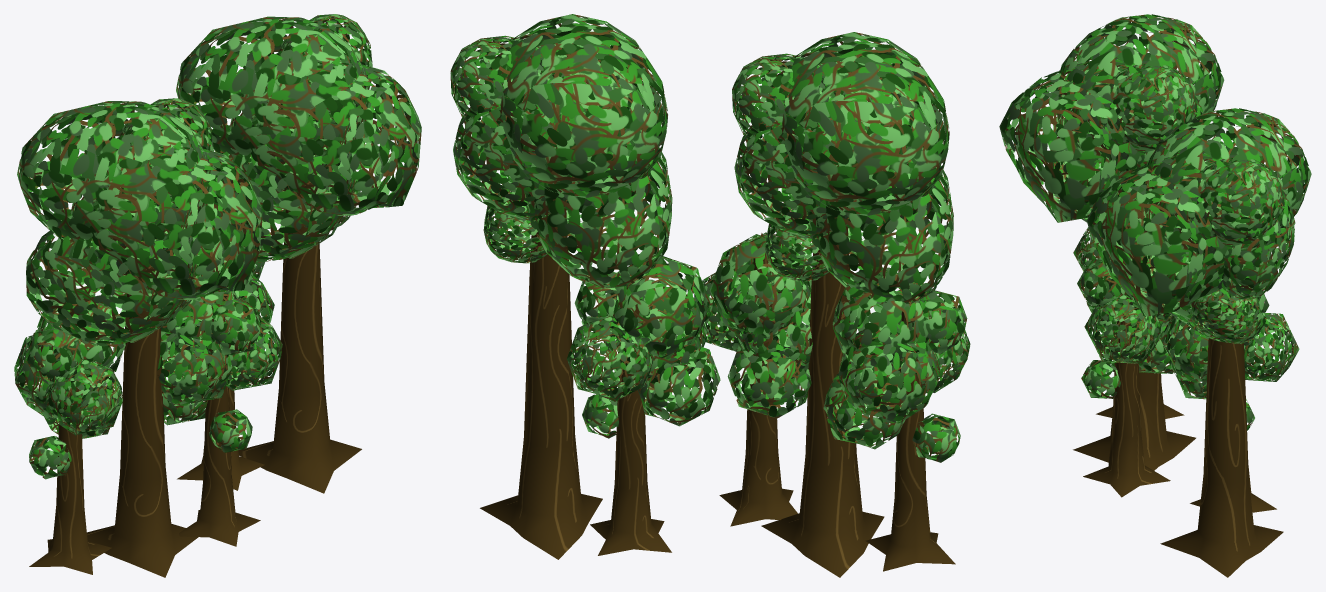
The model's file is tree.fbx.
3 views of the same model, side by side, from view 1: azimuth 30°, elevation 25°; view 2: azimuth 150°, elevation 25°; view 3: azimuth 270°, elevation 25° (orthographic). The views are drawn at different scales.
Visible parts, largest first — view 1: polySurface21; view 2: polySurface21; view 3: polySurface21.
Boxes of the visible parts, x1=… form: polySurface21: x1=14, y1=14, x2=421, y2=577; polySurface21: x1=450, y1=14, x2=970, y2=577; polySurface21: x1=999, y1=14, x2=1311, y2=577.
Bounding box in the file's own units: 16.22 × 17.2 × 11.57.
2 materials, 2 textured.
